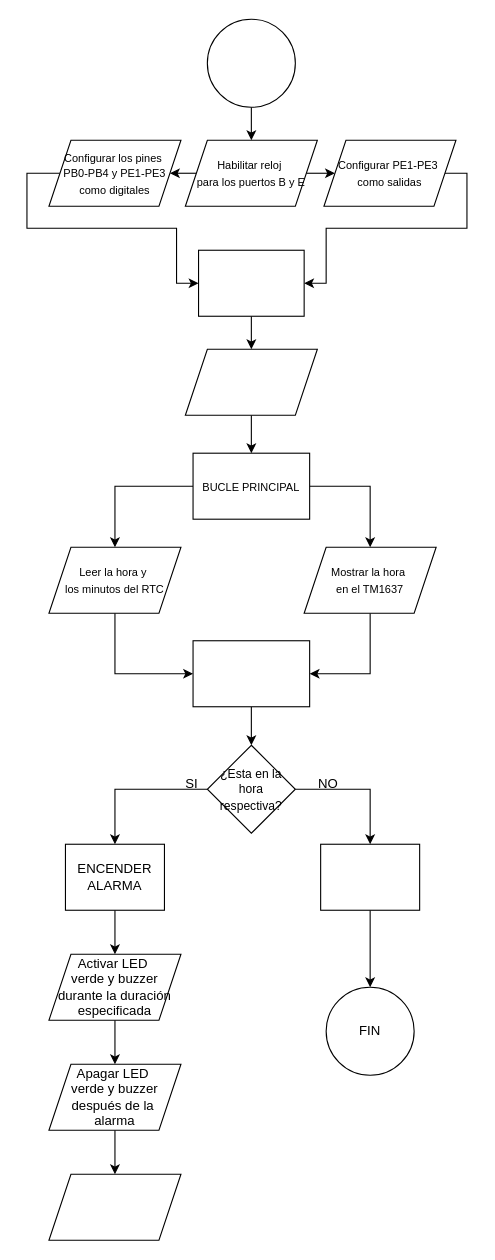
This 495x1260 diagram has some shape labels left out. Here are the shapes that lost their labels. From the top down, the centre of each, then its label:
At point (250, 62): "INICIO".
At point (250, 282): "INICIALIAZACIÓN".
At point (250, 381): "Inicializar los módulos DS1302 y TM1637.".
At point (251, 673): "COMPROBAR CONDICIONES DE ALARMA".
At point (370, 876): "SEGUIR LA HORA".
At point (114, 1206): "Esperar 500 ms y repetir".
